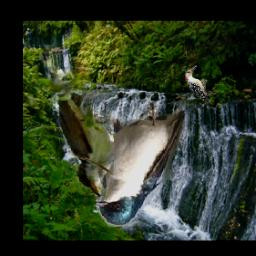Cuckoo: (39, 45, 114, 196)
Swallow: (97, 101, 186, 228)
Woodpecker: (184, 65, 213, 105)
